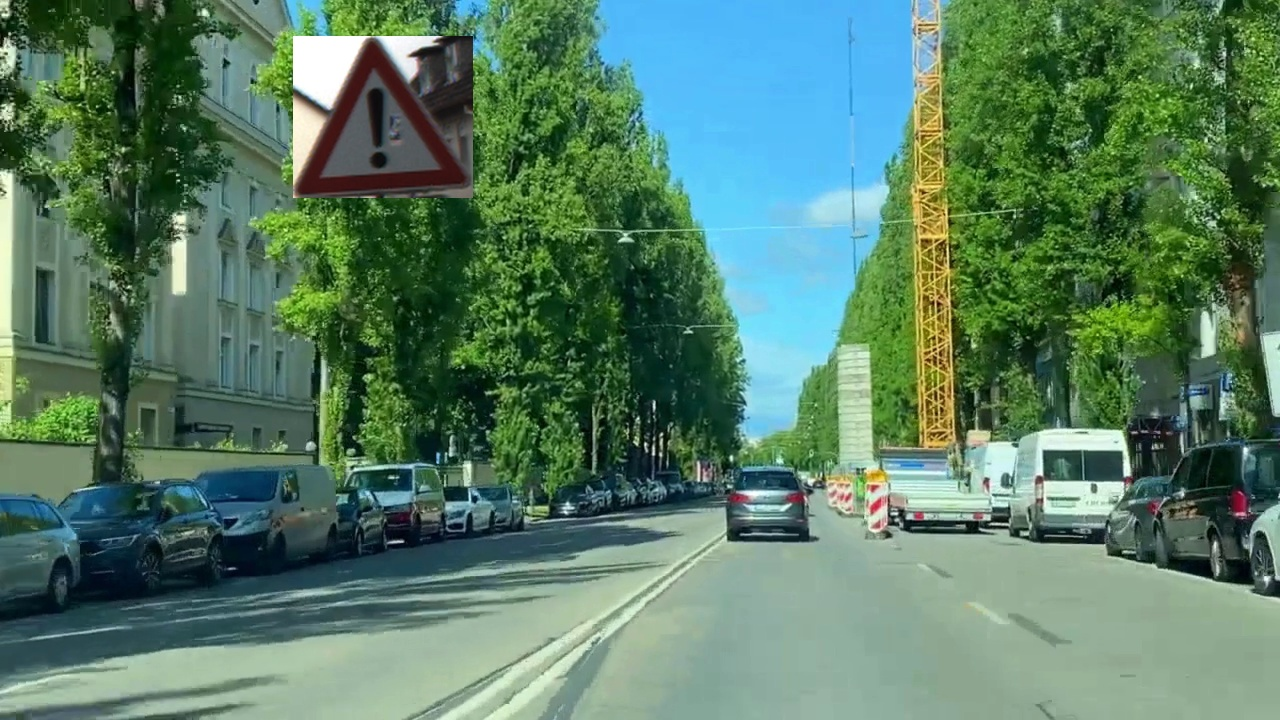Caution: (293, 36, 473, 198)
